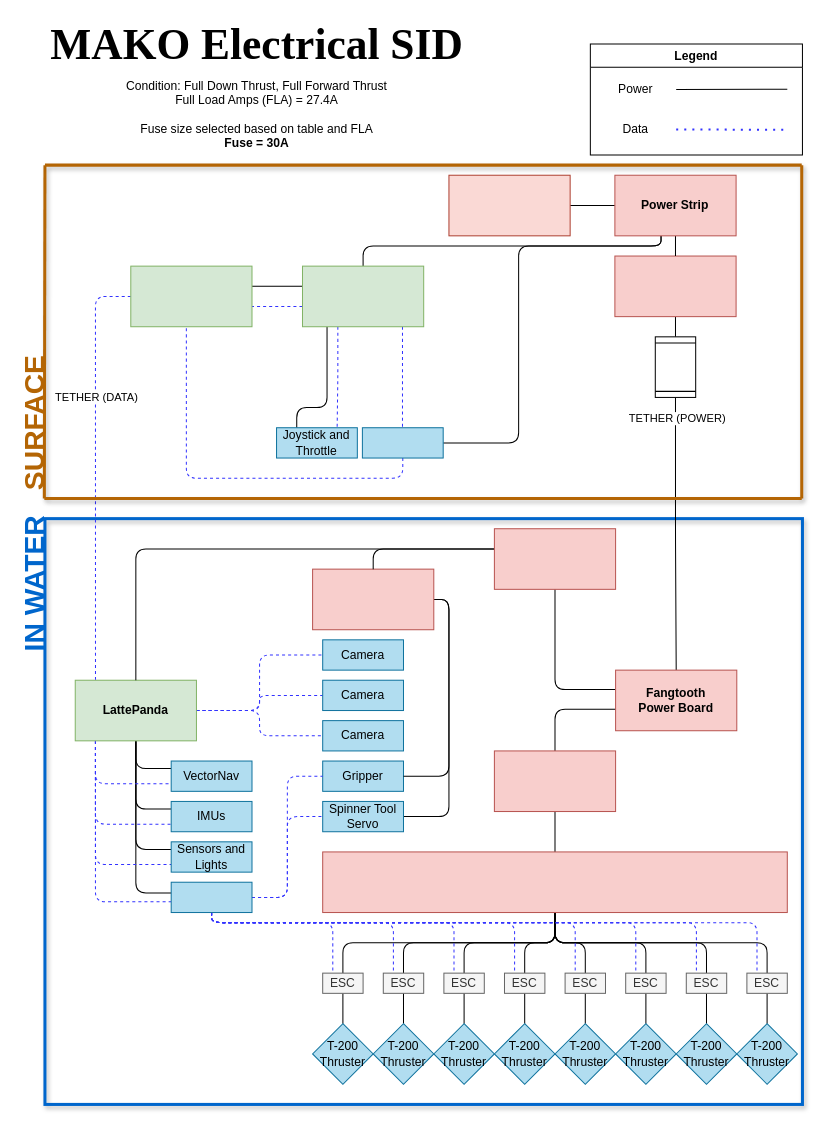
Image size: 828x1130. Some labels were removed from this diagram. Here are the shapes that lost their labels. From the top down, the centre of each, then its label:
point 509,205: 120 V AC Power Source
point 191,296: Fathom-X Tether Interface
point 362,296: Laptop Surface Station (Toughbook)
point 675,286: 1.5 KW 48V DC Power Supply
point 675,366: 30A Fuse
point 402,442: Wireless Router
point 554,558: Computer Powerbus
point 373,599: 12v -> 7v Converter for Servos
point 554,781: Thrusters Powerbus
point 211,897: Motor Controller
point 554,882: 12V Bus Bar
